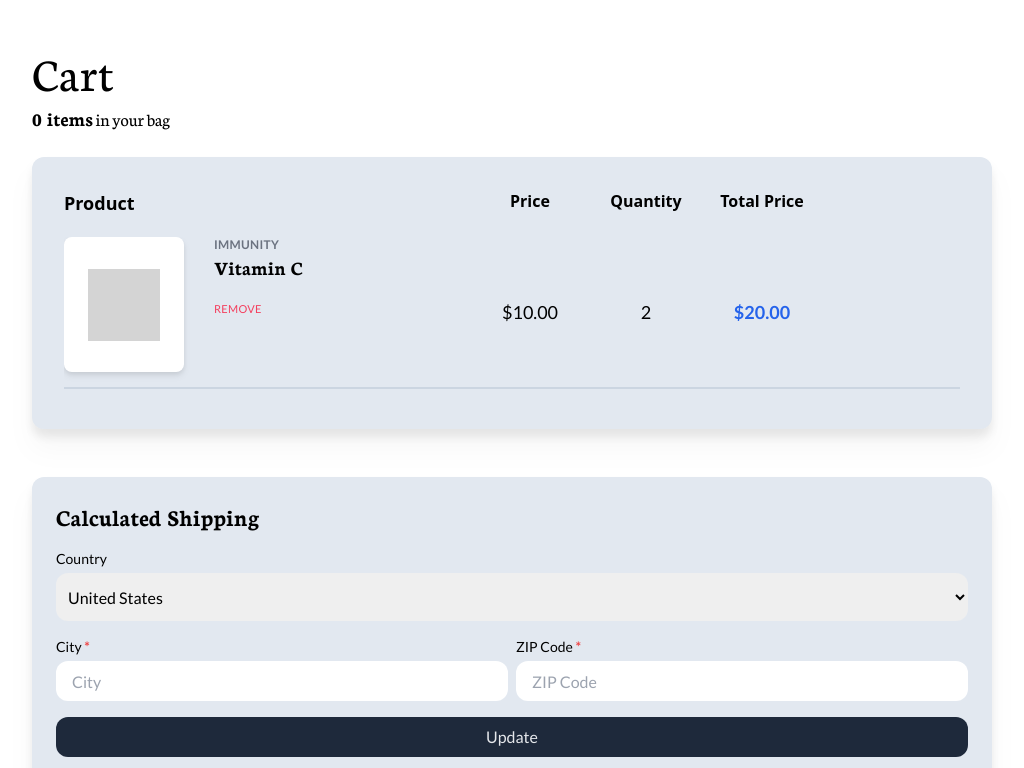
Test case: CartPage remove › disables the remove button while the item is being removed
Step 1. Click the button "Remove" → coordinates (238, 309), box [206, 297, 270, 322]
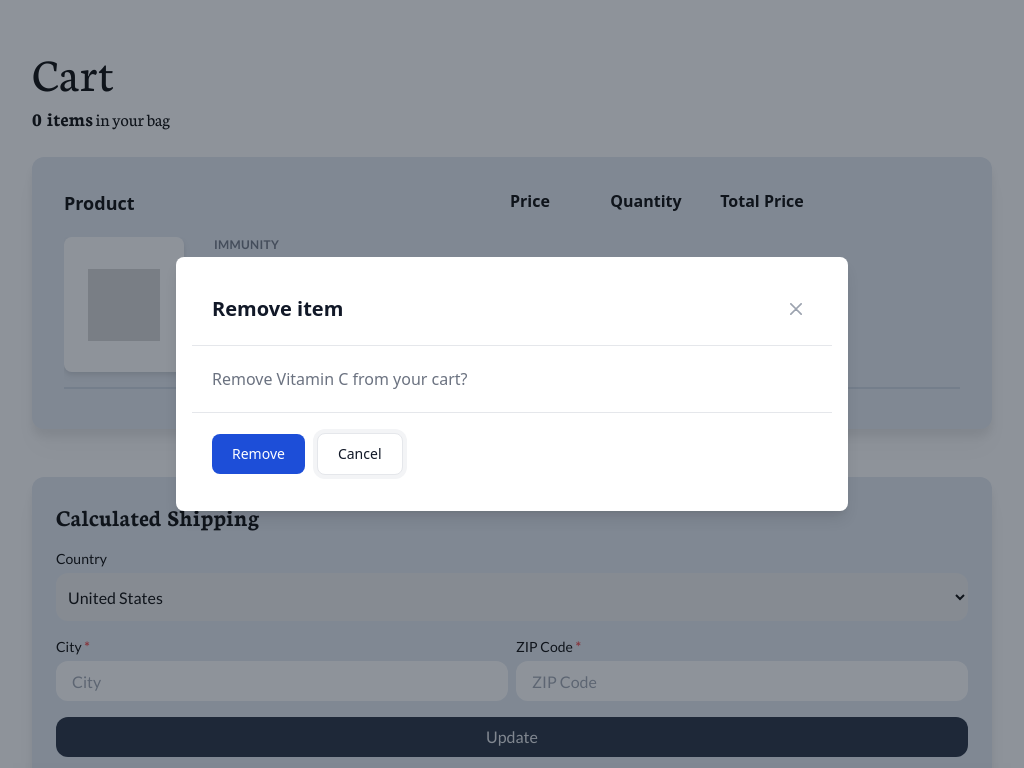
Check: the dialog shows "Remove Vitamin C from your cart?", box [212, 368, 468, 390]
Step 2. Click the button "Remove" → coordinates (258, 454), box [212, 434, 305, 474]
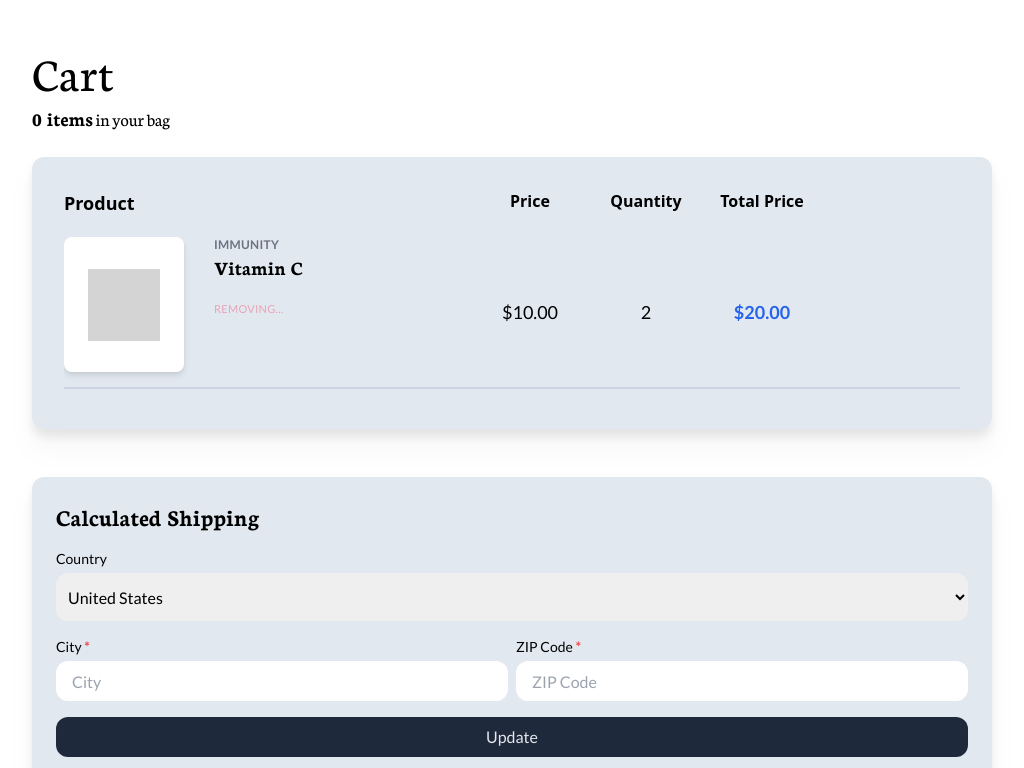
Check: the button "Removing..." is disabled, box [206, 297, 291, 322]
